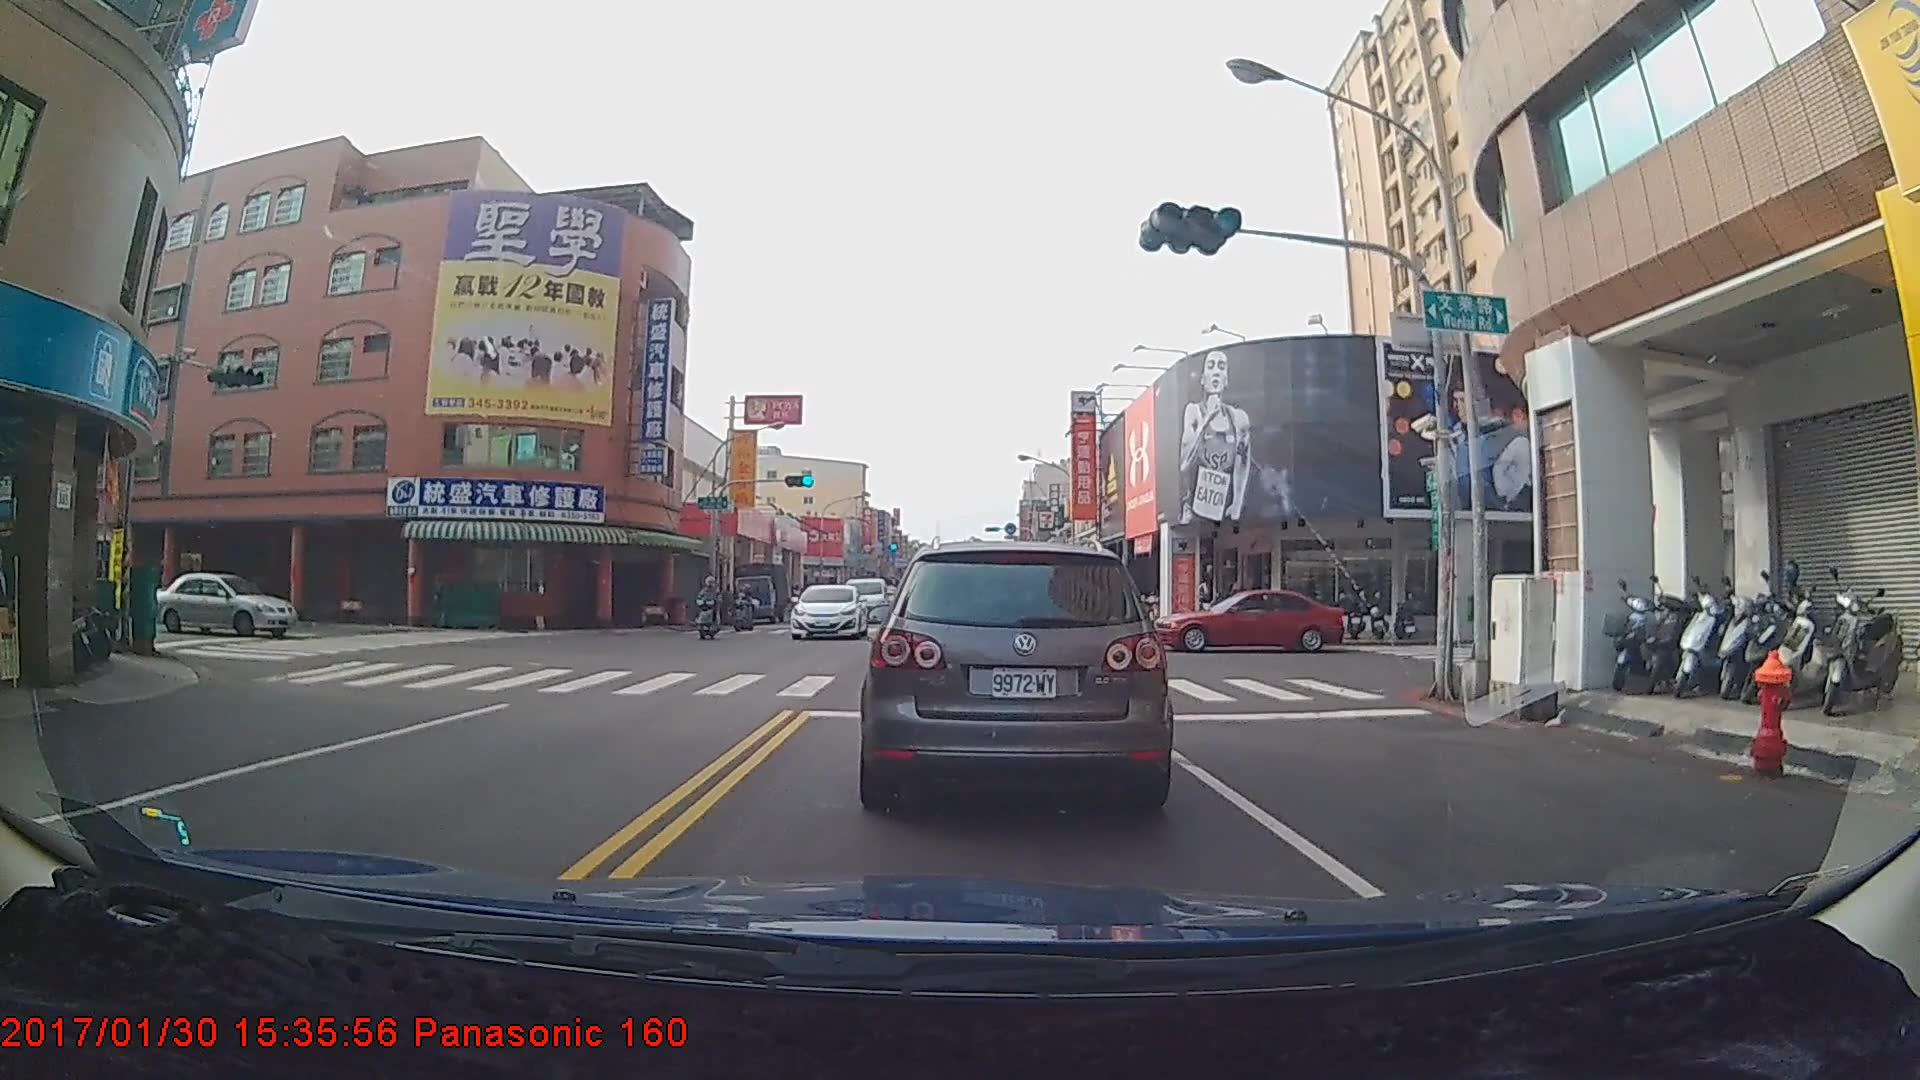rider: (727, 578, 766, 633), (692, 575, 724, 642)
vehicle: (868, 533, 1166, 811), (1150, 591, 1344, 655), (148, 568, 299, 636), (789, 583, 870, 642), (730, 562, 787, 625), (841, 576, 889, 623)
